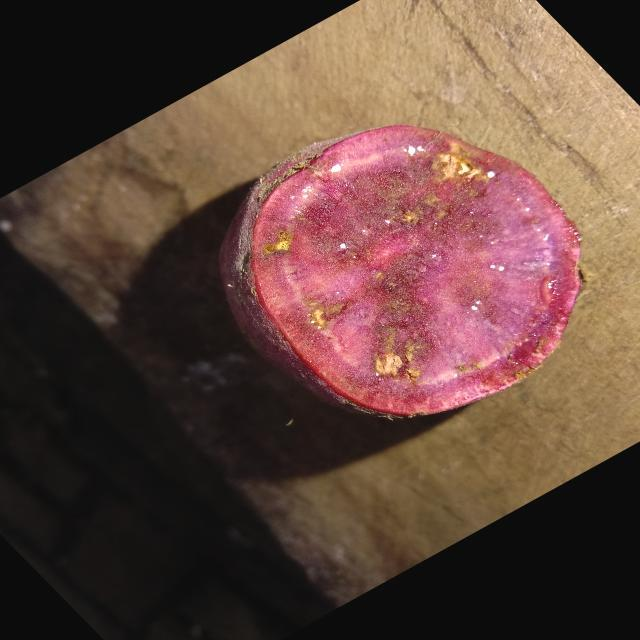Sick Sweet Potato_Tuber Rot: (220, 125, 582, 418)
